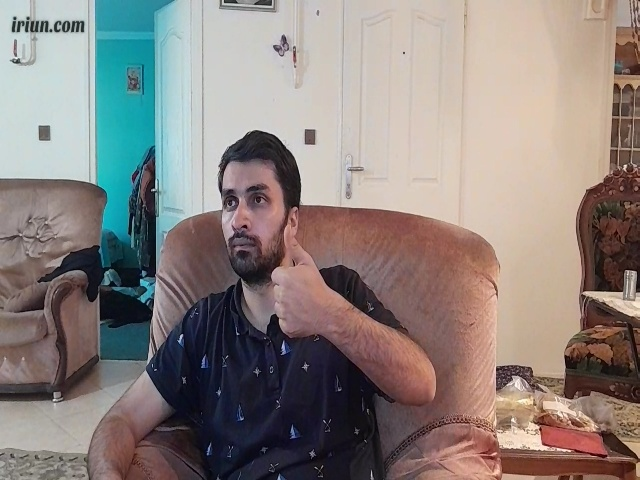ThumbsUp: (269, 224, 329, 342)
